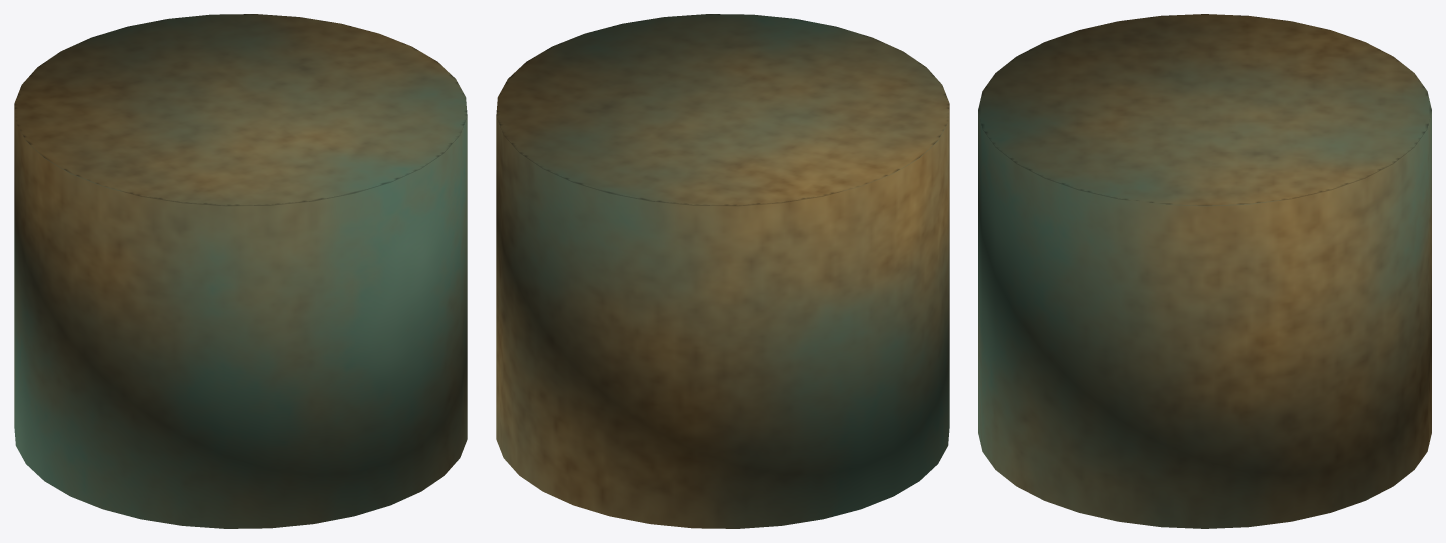
Rendered from Clapper weight.glb.
The picture shows the model from 3 angles, left to right: view 1: azimuth 30°, elevation 25°; view 2: azimuth 150°, elevation 25°; view 3: azimuth 270°, elevation 25°; orthographic projection.
Visible parts, largest first — view 1: Clapper weight; view 2: Clapper weight; view 3: Clapper weight.
Boxes of the visible parts, x1,y1,x2,y2 form: Clapper weight: [14, 14, 467, 528]; Clapper weight: [496, 14, 949, 528]; Clapper weight: [978, 14, 1431, 528].
Bounding box in the file's own units: 0.28 × 0.22 × 0.28.
1 material, 1 textured.
